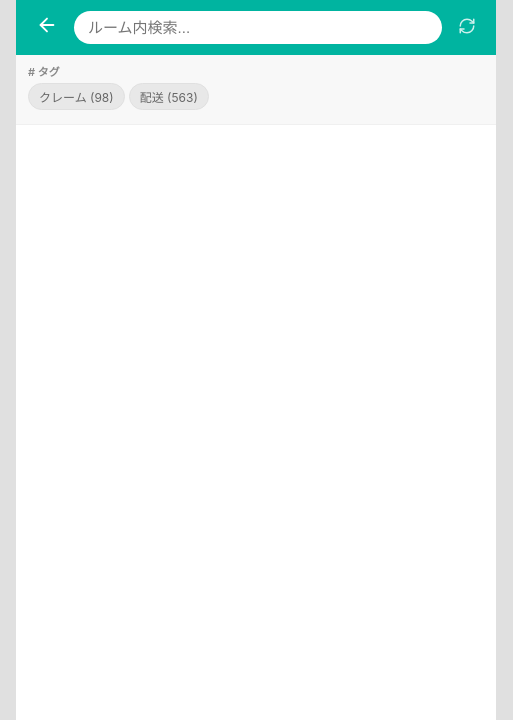
Test case: SearchPage — タグを選んでいる間は、必ずタグで絞って検索する › ★★ 古い検索の応答があとから届いても、新しい結果を上書きしない
Click the text "クレーム (98)".
click(76, 96)  # box [28,83,125,110]
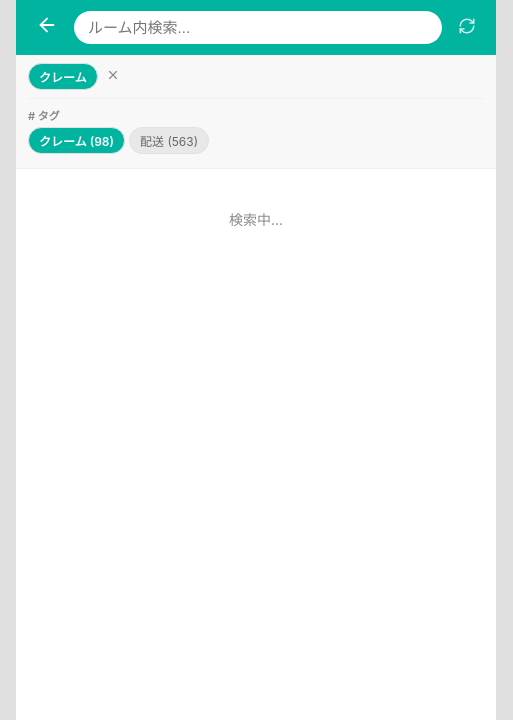
Click the text "配送 (563)".
click(169, 140)  # box [129,127,209,154]
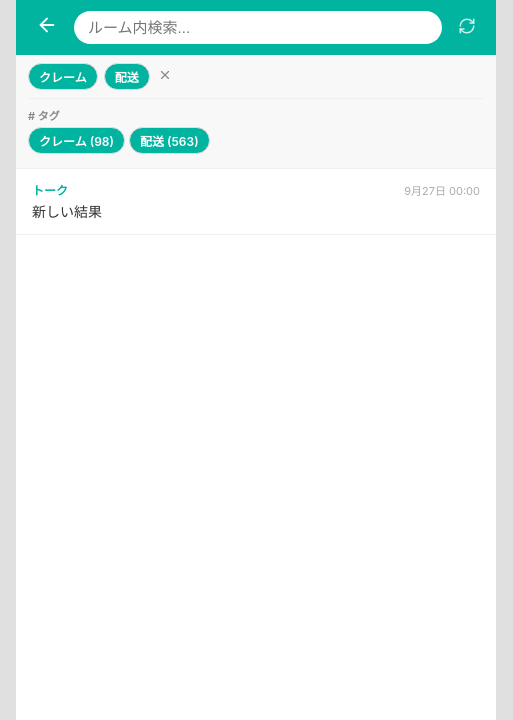
Expected: the text "新しい結果" is shown, [32,203,102,220]
